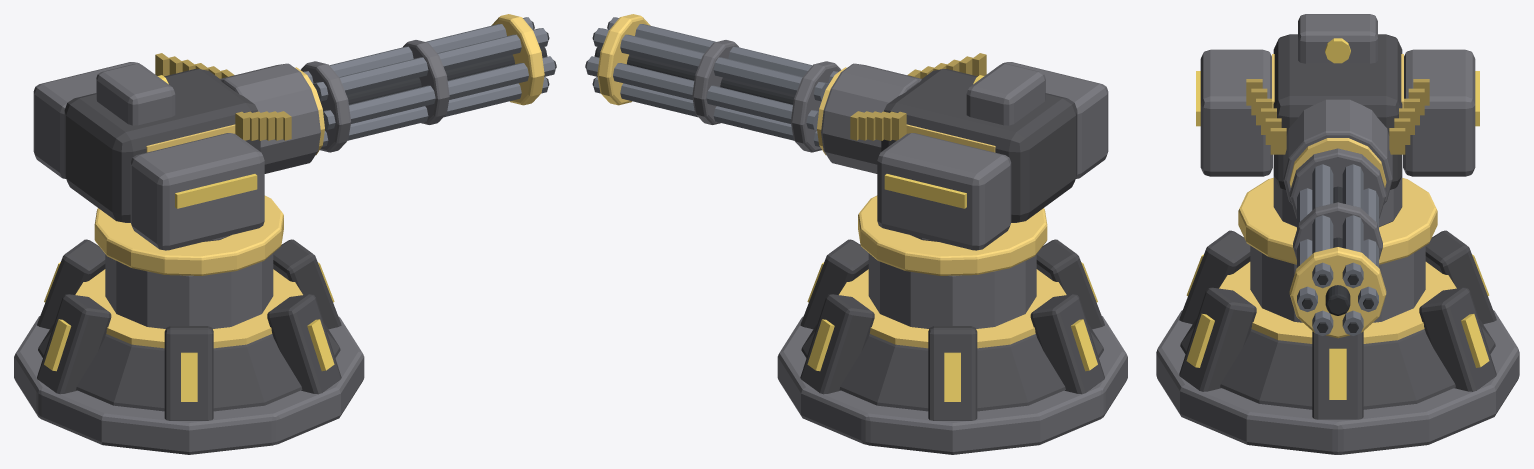
The model's file is torreta_gatling.obj.
The picture shows the model from 3 angles, left to right: view 1: azimuth 30°, elevation 25°; view 2: azimuth 150°, elevation 25°; view 3: azimuth 270°, elevation 25°; orthographic projection. The views are drawn at different scales.
Visible parts, largest first — view 1: Base, Pivot, Spinner, Barrel; view 2: Base, Pivot, Spinner, Barrel; view 3: Base, Pivot, Spinner, Barrel.
Part boxes in pixels (x1,y1,x2,y2): Base: (14, 239, 364, 454); Pivot: (33, 53, 291, 275); Spinner: (301, 14, 556, 152); Barrel: (220, 63, 324, 173); Base: (777, 239, 1127, 454); Pivot: (850, 53, 1108, 275); Spinner: (585, 14, 840, 152); Barrel: (817, 63, 921, 173); Base: (1156, 230, 1519, 454); Pivot: (1196, 14, 1479, 264); Spinner: (1289, 148, 1386, 338); Barrel: (1283, 99, 1392, 203).
Size of the model in its own units: 4.16 by 2.5 by 2.49.
1 material, 1 textured.
